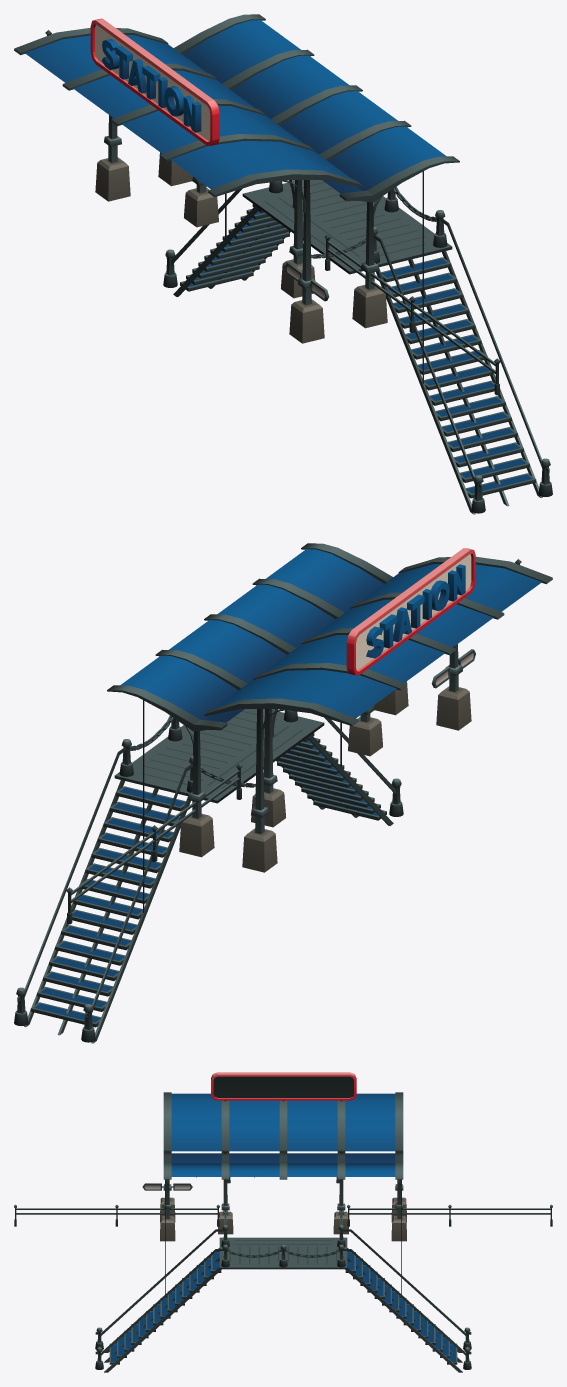
The model's file is Train_Station_1B.fbx.
3 views of the same model, one above another, from view 1: azimuth 30°, elevation 25°; view 2: azimuth 150°, elevation 25°; view 3: azimuth 270°, elevation 25° (orthographic). The views are drawn at different scales.
Parts seen in each view (by area): view 1: Train_Station_1B; view 2: Train_Station_1B; view 3: Train_Station_1B.
Boxes of the visible parts, left/top/right/bottom form: Train_Station_1B: left=14, top=14, right=552, bottom=514; Train_Station_1B: left=14, top=543, right=552, bottom=1043; Train_Station_1B: left=14, top=1072, right=552, bottom=1372.
Bounding box in the file's own units: 13.56 × 17.52 × 37.22.
